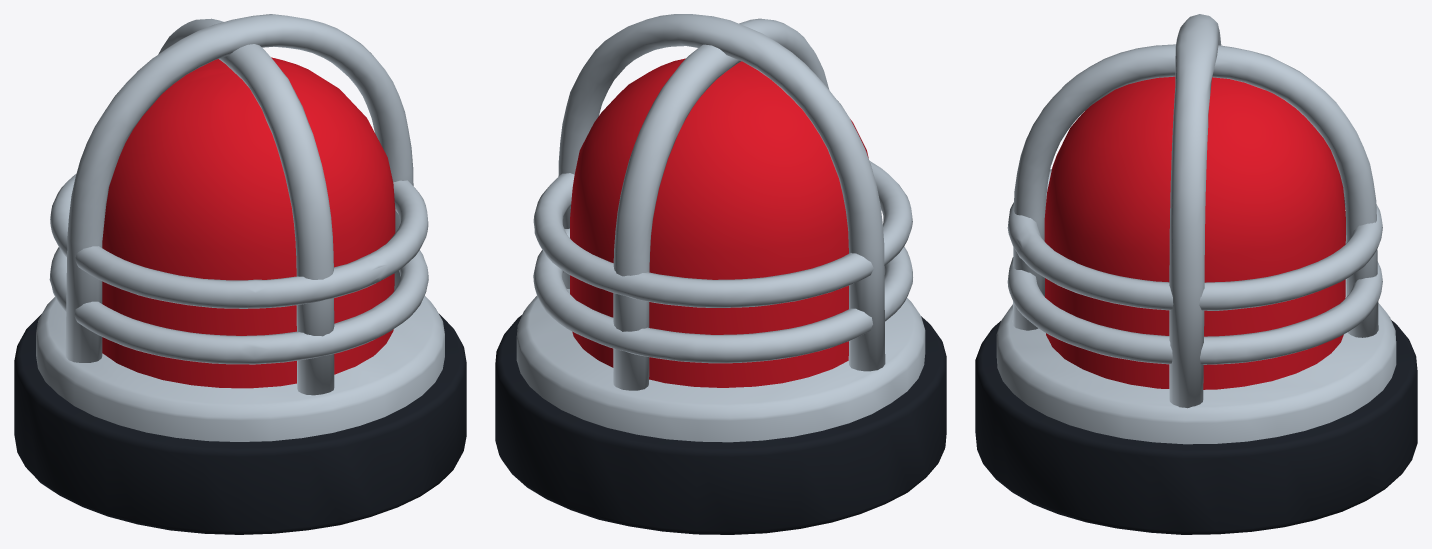
File: SpaceGamble_CeilingSiren_Separated.glb
3 views of the same model, side by side, from view 1: azimuth 30°, elevation 25°; view 2: azimuth 150°, elevation 25°; view 3: azimuth 270°, elevation 25° (orthographic). The views are drawn at different scales.
Visible parts, largest first — view 1: Dome_Red, Base_Black, GuardMountRing_Silver, GuardArch_X, GuardArch_Y, GuardRing_Upper, GuardRing_Lower; view 2: Dome_Red, Base_Black, GuardMountRing_Silver, GuardArch_X, GuardRing_Upper, GuardArch_Y, GuardRing_Lower; view 3: Dome_Red, Base_Black, GuardMountRing_Silver, GuardArch_Y, GuardArch_X, GuardRing_Upper, GuardRing_Lower.
Boxes of the visible parts, x1,y1,x2,y2 form: Dome_Red: (102,57,395,388); Base_Black: (14,314,466,534); GuardMountRing_Silver: (36,296,444,441); GuardArch_X: (65,14,413,362); GuardArch_Y: (158,18,334,395); GuardRing_Upper: (50,173,428,308); GuardRing_Lower: (49,247,428,364); Dome_Red: (570,58,868,387); Base_Black: (495,315,946,534); GuardMountRing_Silver: (516,289,925,442); GuardArch_X: (558,14,885,371); GuardRing_Upper: (533,160,912,307); GuardArch_Y: (613,18,829,390); GuardRing_Lower: (533,228,912,363); Dome_Red: (1044,76,1345,389); Base_Black: (975,320,1417,534); GuardMountRing_Silver: (996,279,1396,444); GuardArch_Y: (1012,44,1378,337); GuardArch_X: (1169,14,1221,408); GuardRing_Upper: (1007,169,1382,310); GuardRing_Lower: (1007,235,1382,364).
Bounding box in the file's own units: 0.195 × 0.2 × 0.195.
